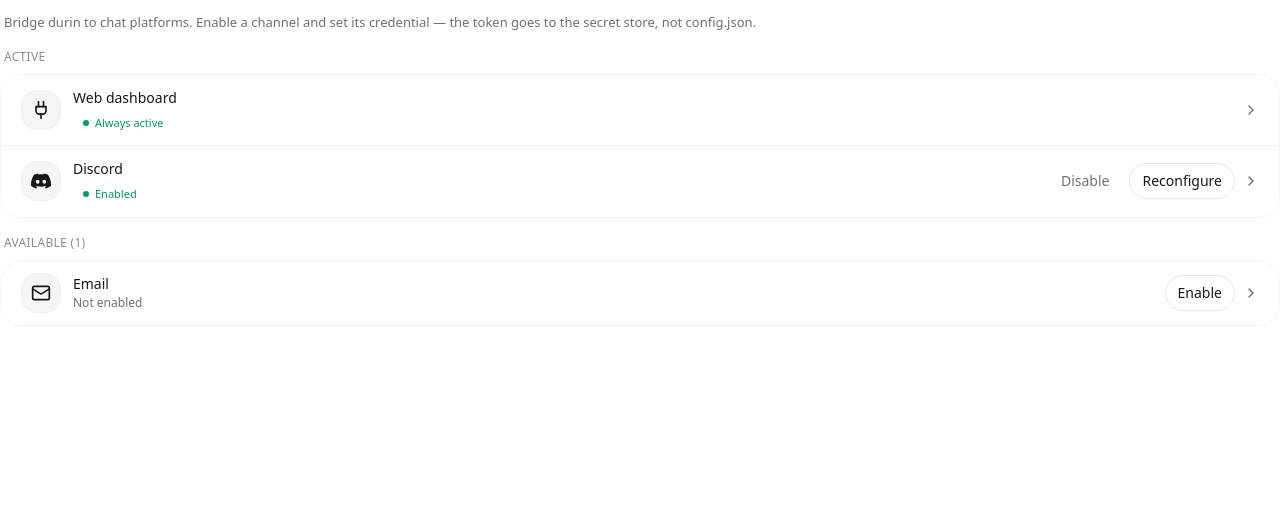
Scenario: universal channel persona row › renders the persona select exactly once for typed channels that declare the field
Click the text "Email". click: (91, 284)
box: [73, 274, 109, 293]
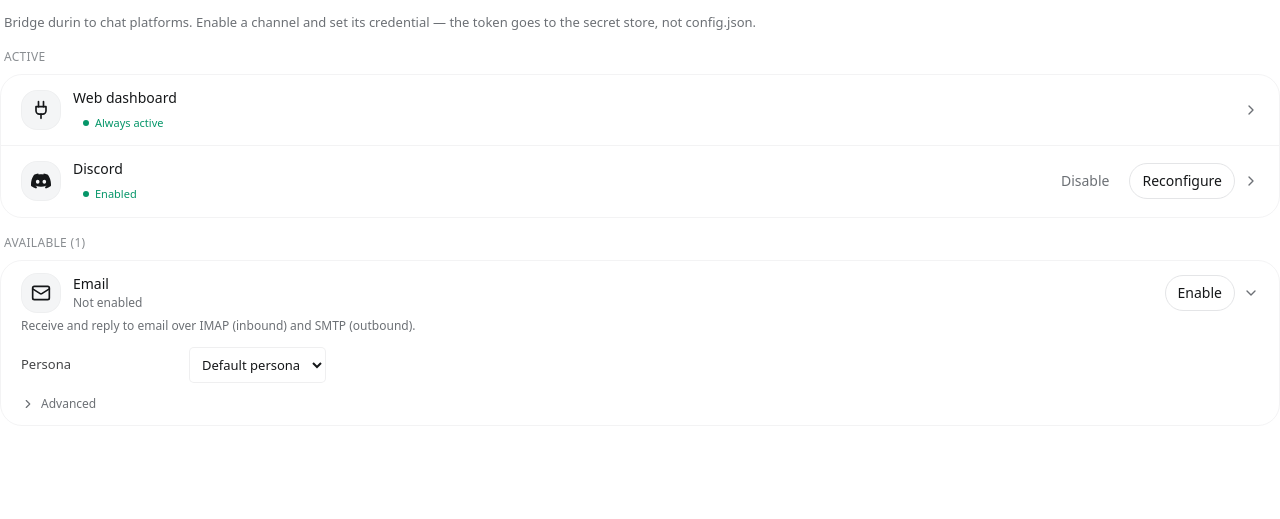
expect the dropdown is shown: met, box [189, 346, 326, 382]
Click the button "Advanced". click: (59, 404)
box: [21, 394, 96, 412]
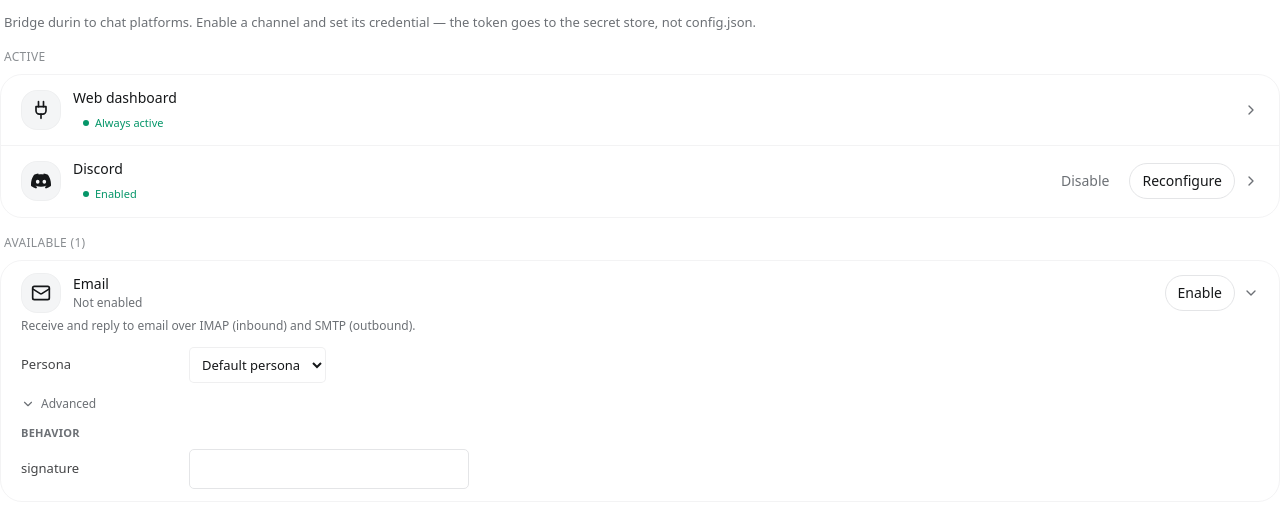
expect the number of dropdowns is 1: met, box [189, 346, 326, 382]
expect the text "signature" is shown: met, box [21, 459, 79, 477]
